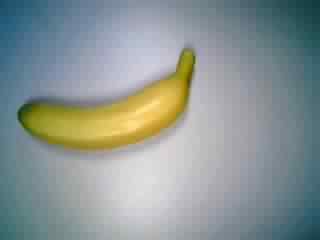banana: (19, 52, 204, 154)
